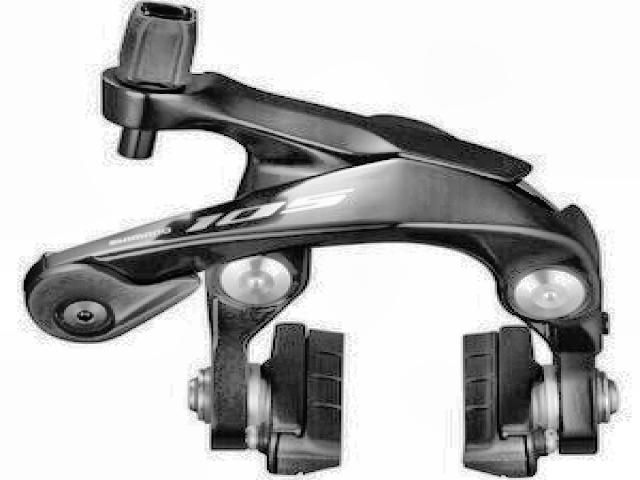rim_brake: (22, 1, 616, 480)
